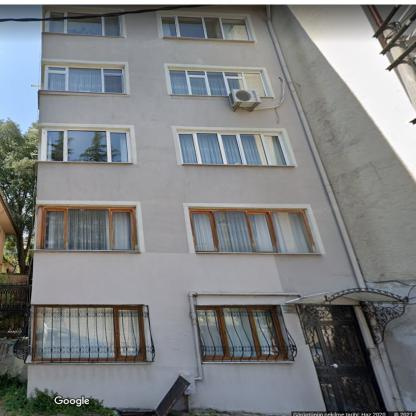door: (297, 306, 387, 412)
window: (32, 305, 146, 361), (189, 209, 318, 254), (196, 306, 288, 362), (35, 206, 140, 250), (177, 132, 291, 165), (38, 128, 130, 162), (169, 67, 268, 96), (159, 14, 251, 41), (43, 64, 124, 93), (45, 16, 122, 37), (46, 11, 101, 18)
